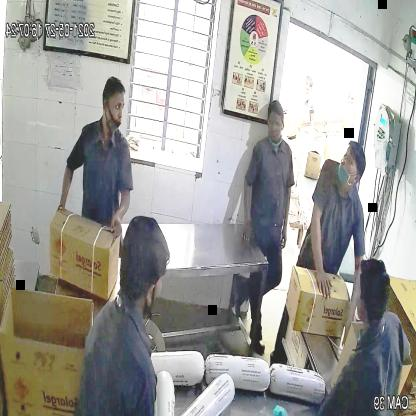no_goggles: (334, 145, 366, 174), (104, 98, 126, 119)
